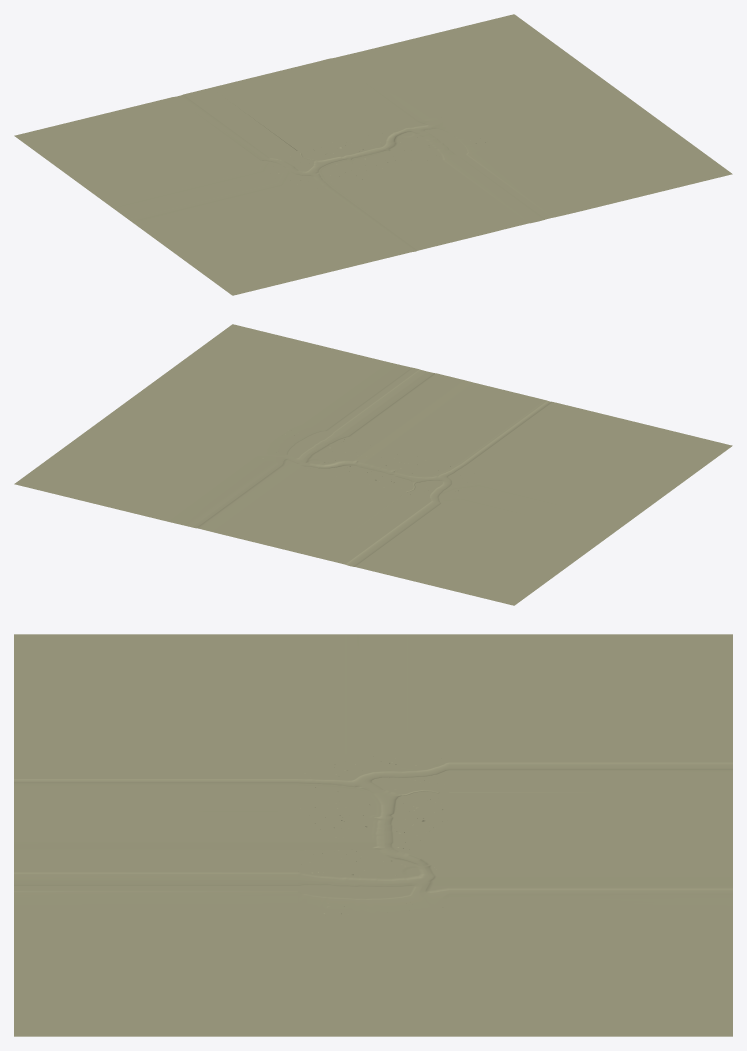
Rendered from terrain__e1834_harbor_cut.glb.
The picture shows the model from 3 angles, top to bottom: view 1: azimuth 30°, elevation 25°; view 2: azimuth 150°, elevation 25°; view 3: azimuth 270°, elevation 25°; orthographic projection. The views are drawn at different scales.
Parts seen in each view (by area): view 1: terrain__e1834_harbor_cut; view 2: terrain__e1834_harbor_cut; view 3: terrain__e1834_harbor_cut.
Part boxes in pixels (left/top/right/bottom): terrain__e1834_harbor_cut: left=14, top=14, right=732, bottom=295; terrain__e1834_harbor_cut: left=14, top=324, right=732, bottom=605; terrain__e1834_harbor_cut: left=14, top=634, right=732, bottom=1036.
Bounding box in the file's own units: 5020 × 8.74 × 3800.
